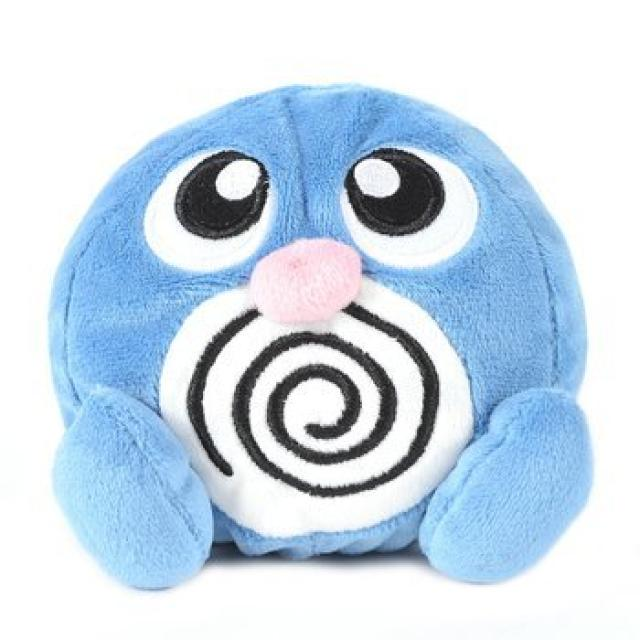Poliwag: (65, 77, 575, 578)
